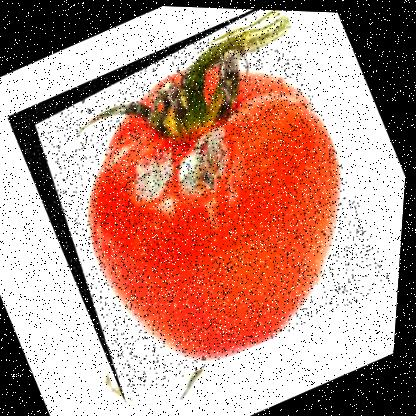tomato_rotten: (0, 0, 410, 409)
